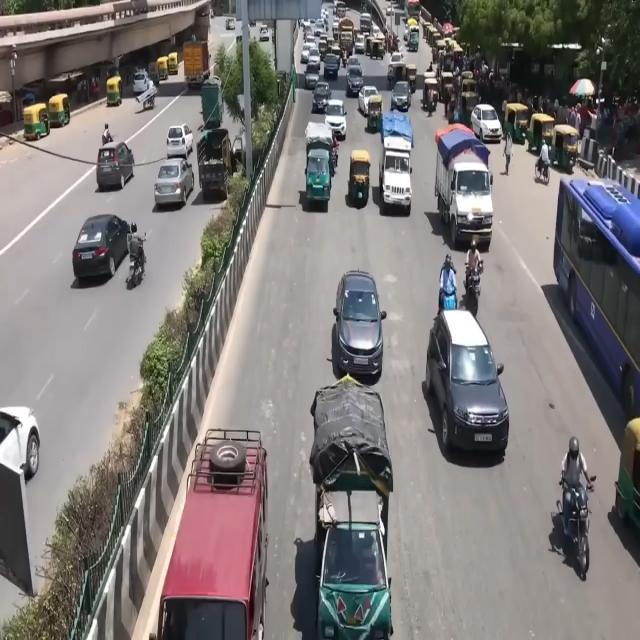auto: (304, 125, 334, 209), (348, 142, 373, 218), (23, 92, 51, 149), (46, 86, 76, 133), (501, 97, 531, 144), (530, 108, 558, 150), (554, 127, 577, 175), (105, 67, 126, 114), (366, 93, 384, 132), (461, 86, 477, 122), (426, 74, 442, 108), (407, 64, 422, 100), (158, 48, 169, 84), (169, 46, 180, 74)
bike-auto: (558, 439, 598, 576), (124, 220, 148, 312), (435, 259, 464, 329), (464, 257, 484, 314), (537, 137, 550, 182), (102, 122, 115, 161)
